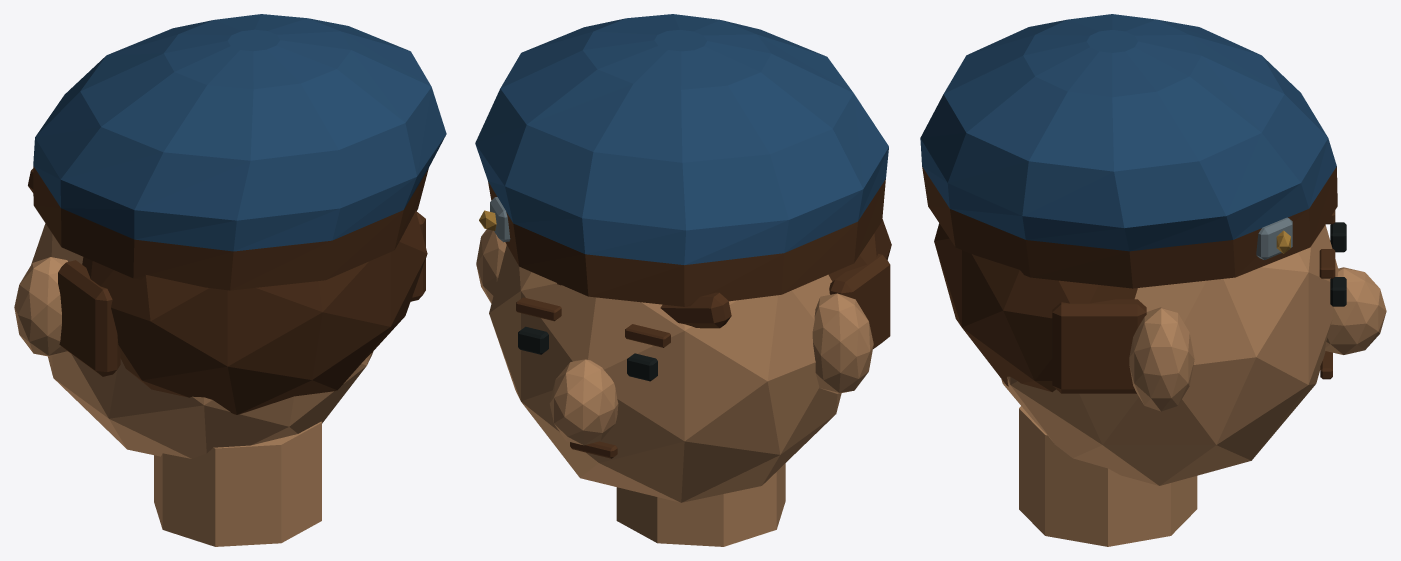
The model's file is Head.glb.
3 views of the same model, side by side, from view 1: azimuth 30°, elevation 25°; view 2: azimuth 150°, elevation 25°; view 3: azimuth 270°, elevation 25° (orthographic). The views are drawn at different scales.
Visible parts, largest first — view 1: Sculpture; view 2: Sculpture; view 3: Sculpture.
Part boxes in pixels (<box>): Sculpture: <box>14,14,446,546</box>; Sculpture: <box>475,14,891,546</box>; Sculpture: <box>920,14,1386,546</box>.
Size of the model in its own units: 0.536 by 0.614 by 0.544.
